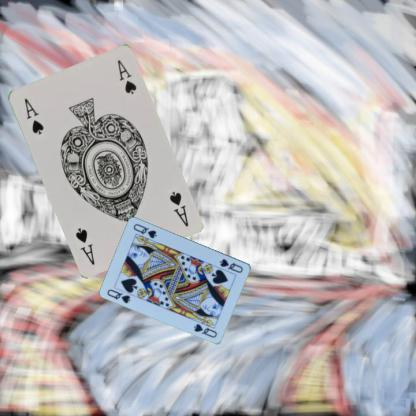As: (166, 188, 190, 228), (22, 95, 44, 136)
Qs: (218, 256, 245, 274), (105, 286, 132, 304)
